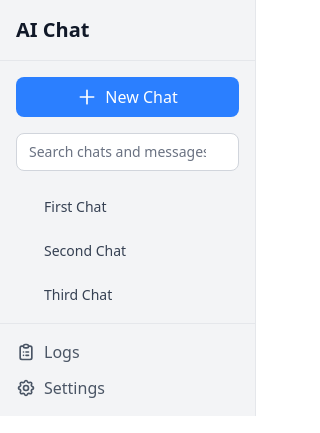
Test: ChatSidebar › search functionality › clears search and shows all chats when clear button is clicked
This screenshot has width=320, height=433.
Type "First" into the field with placeholder "Search chats and messages..." at (128, 152), box [16,133,239,171]
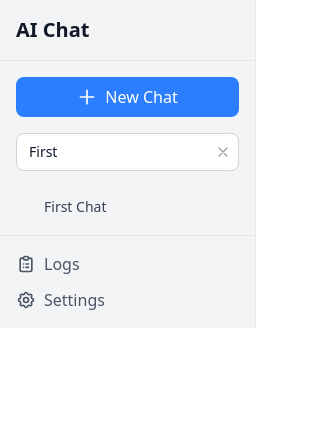
Click the button titled "Clear search" at (223, 152), box [215,144,231,160]
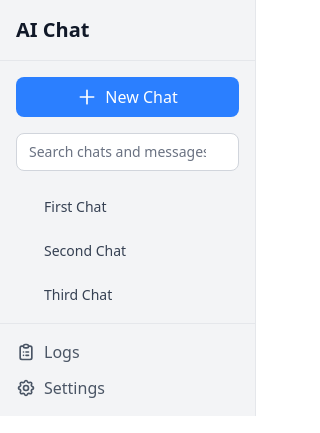
Check: the field with placeholder "Search chats and messages..." is empty, box [16,133,239,171]
Check: the text "Second Chat" is shown, box [44,241,126,260]
Check: the text "Third Chat" is shown, box [44,285,112,304]
